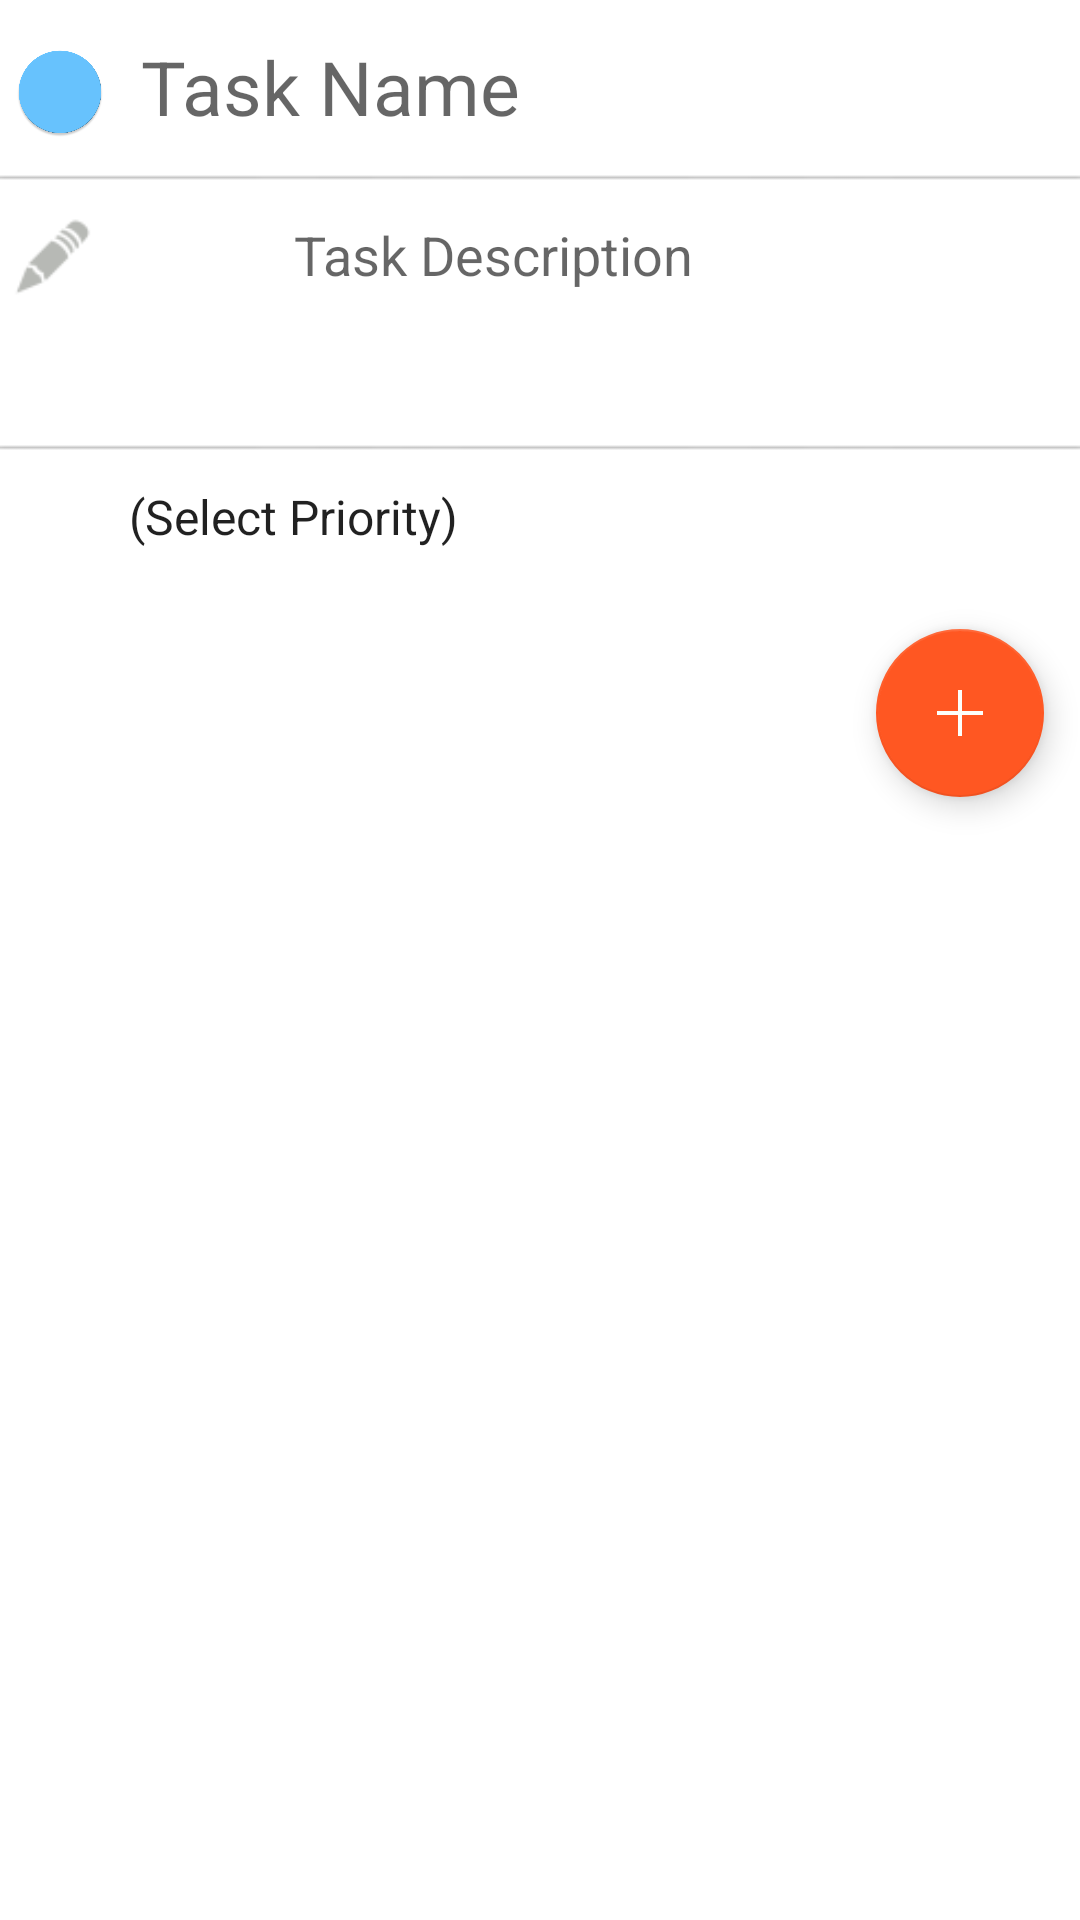

Icons on this 1080px×1920px Android screen, each with the point to tap as (x,y):
add: (960,713)
